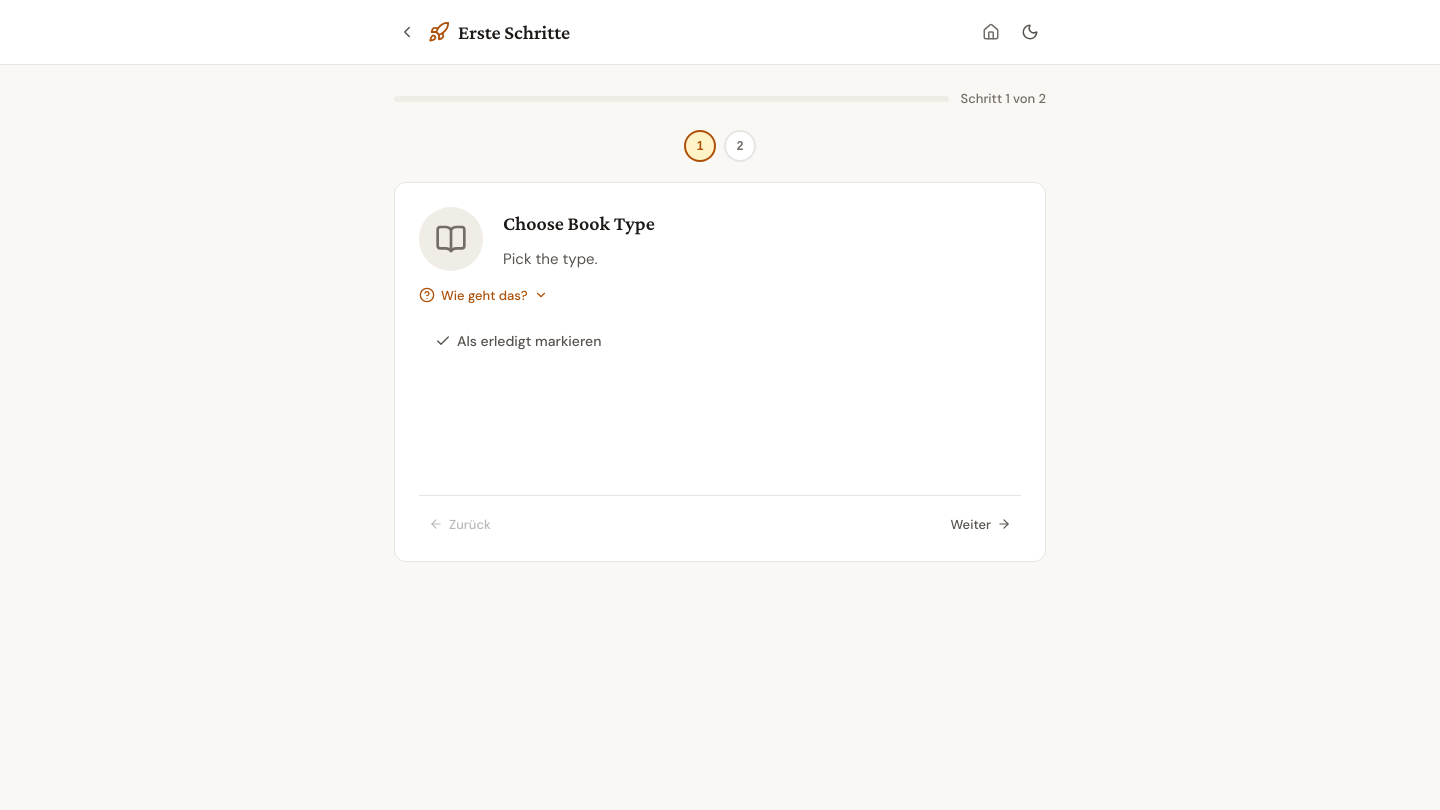
Test: GetStarted multi-book-type onboarding (C4) › expands the choose-book-type help into a 3-card grid
Expected: the heading "Choose Book Type" is shown, [503,212,655,234]
# Click "How does it work?" to expand the help section.
Click the button "Wie geht das?".
click(484, 295)  # box [419,287,1021,304]
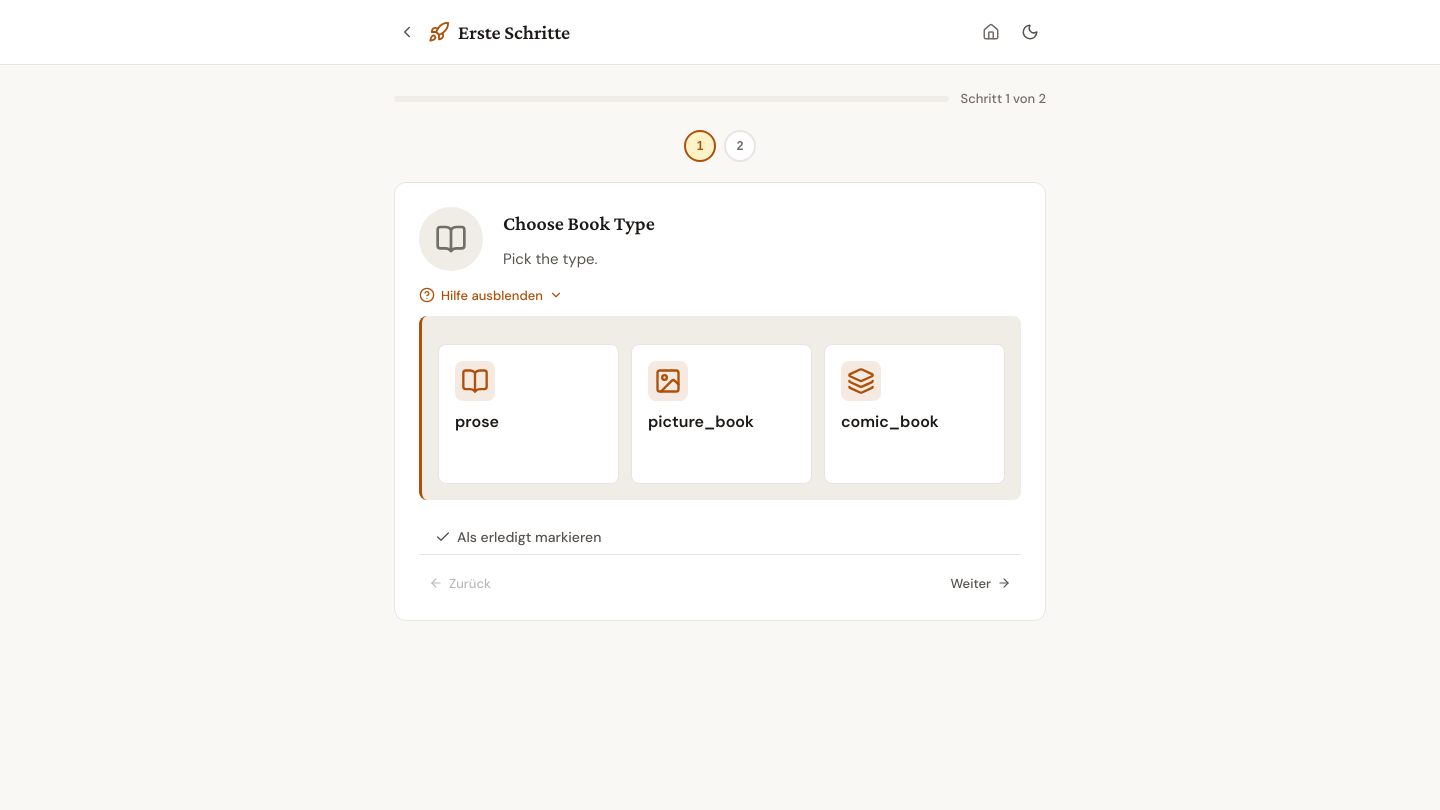
Result: the element with test id "getstarted-book-type-grid" is shown at [438,344,1005,484]
Result: the element with test id "getstarted-book-type-card-prose" is shown at [438,344,619,484]
Result: the element with test id "getstarted-book-type-card-picture_book" is shown at [631,344,812,484]
